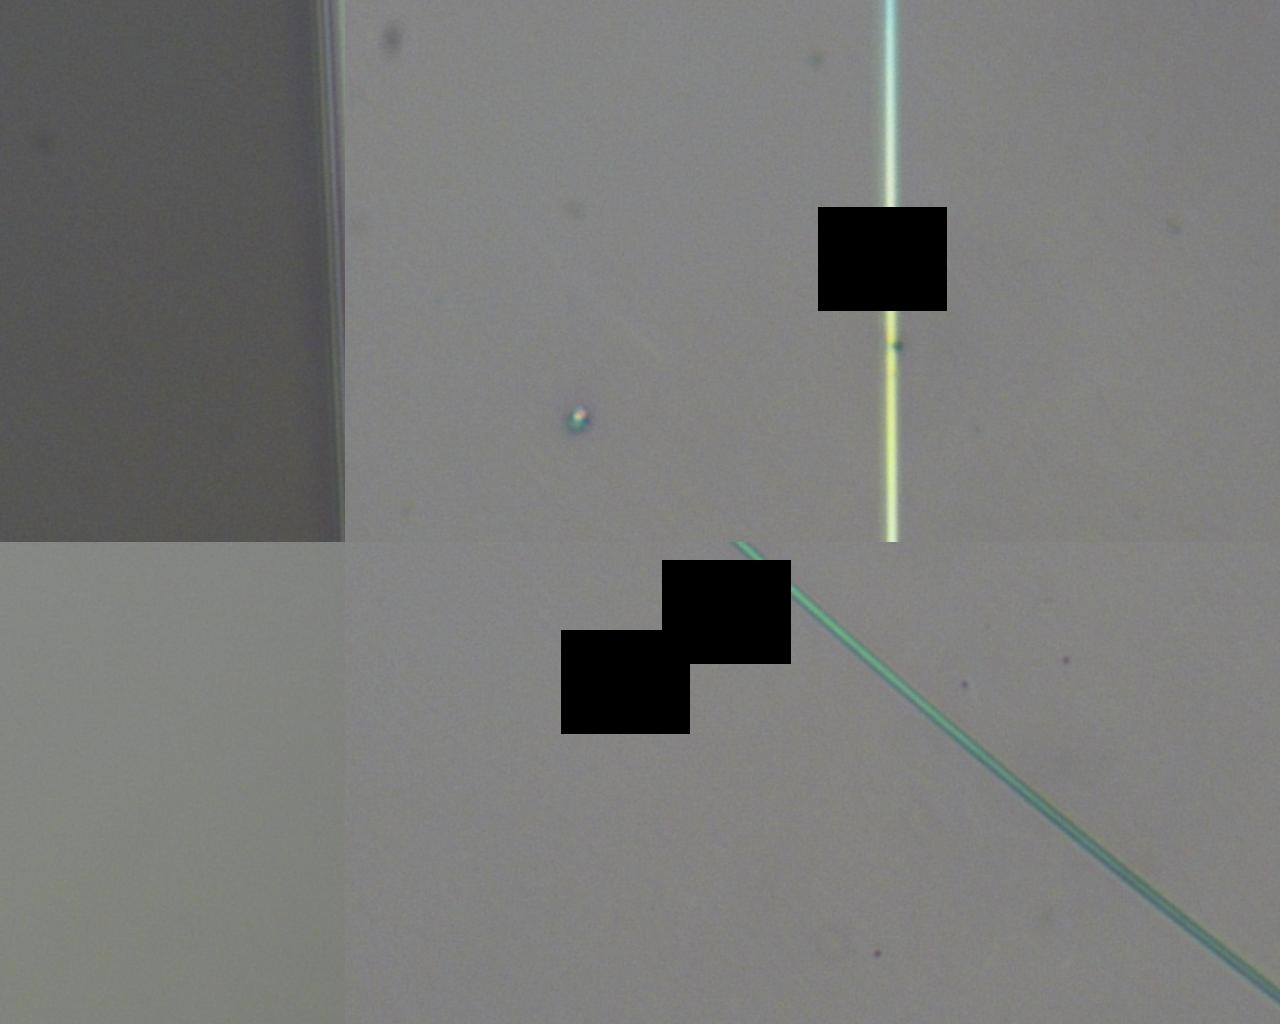fiber: (242, 0, 811, 645), (921, 645, 1081, 1024)
